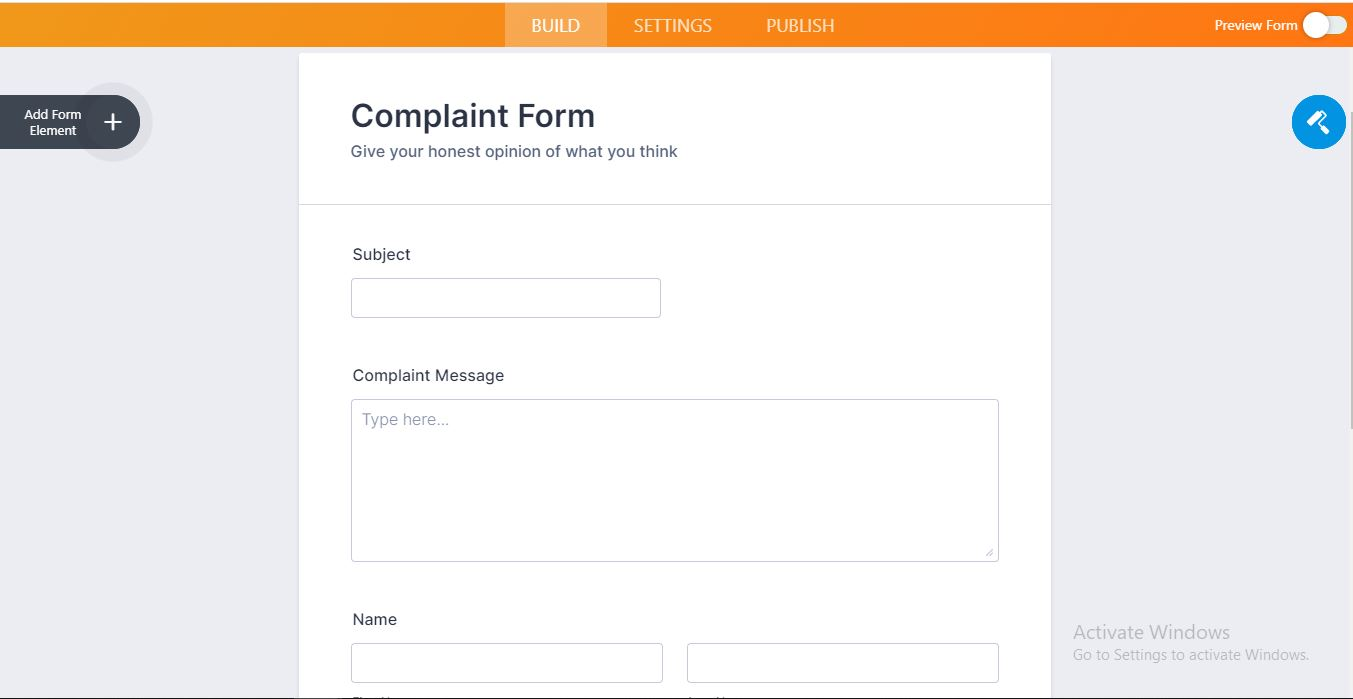Button: (1279, 90, 1351, 153), (78, 91, 148, 153)
Menu Bar: (488, 0, 849, 45)
Text Field: (348, 399, 1005, 564), (339, 273, 669, 323), (353, 640, 662, 685), (687, 641, 1000, 681)
